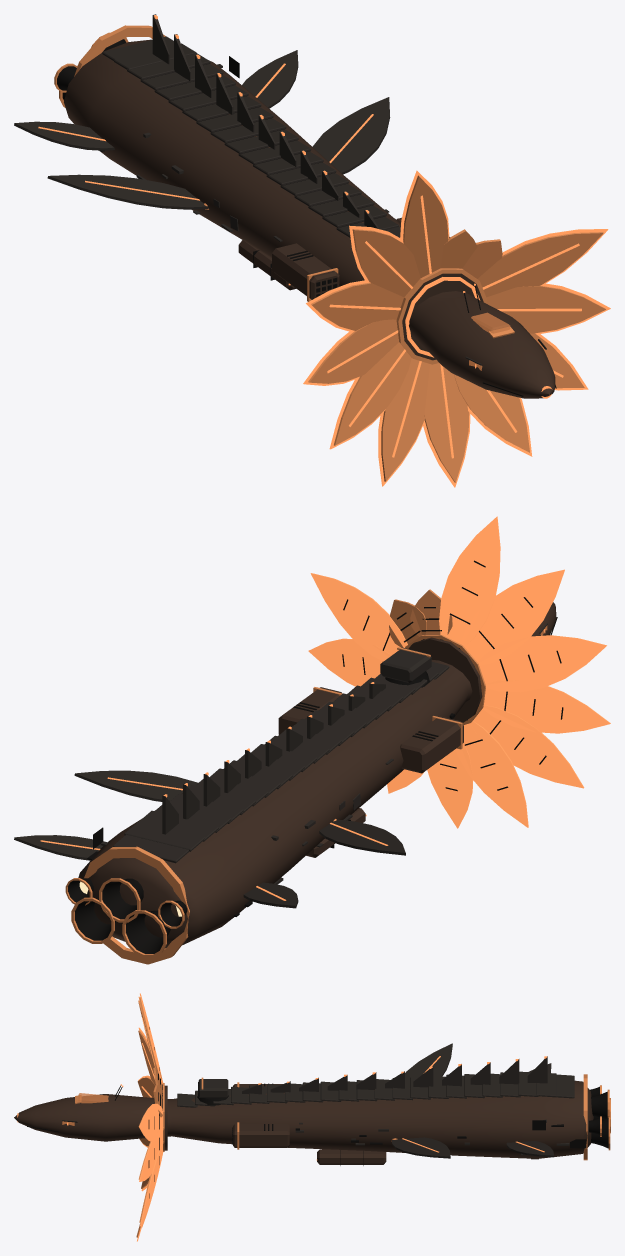
Rendered from kryza-heliotropi-hawk-44-lod0.glb.
3 renders of one model, top to bottom at view 1: azimuth 30°, elevation 25°; view 2: azimuth 150°, elevation 25°; view 3: azimuth 270°, elevation 25°, orthographic. The views are drawn at different scales.
Bounding box in the file's own units: 22.24 × 20.46 × 50.
